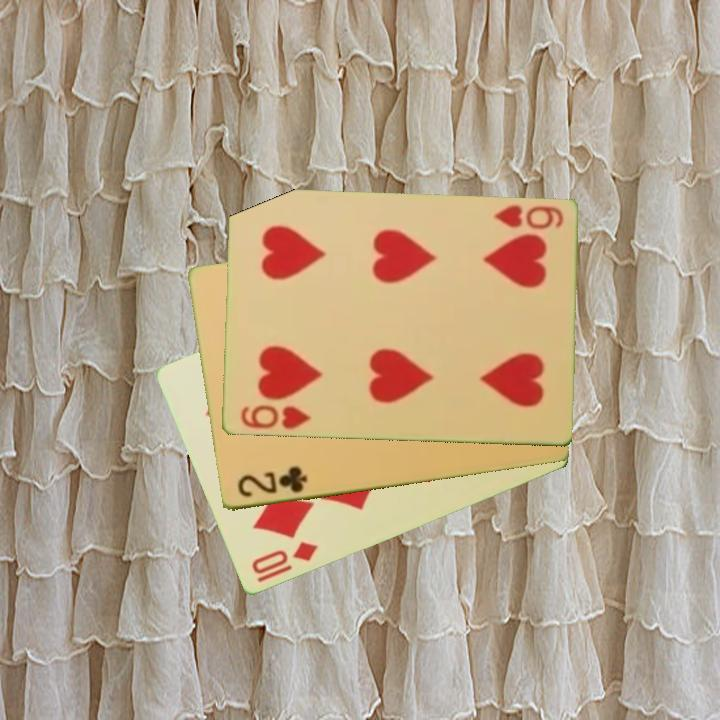10d: (247, 538, 321, 586)
2c: (233, 463, 310, 501)
6h: (237, 401, 314, 433), (489, 202, 566, 233)
